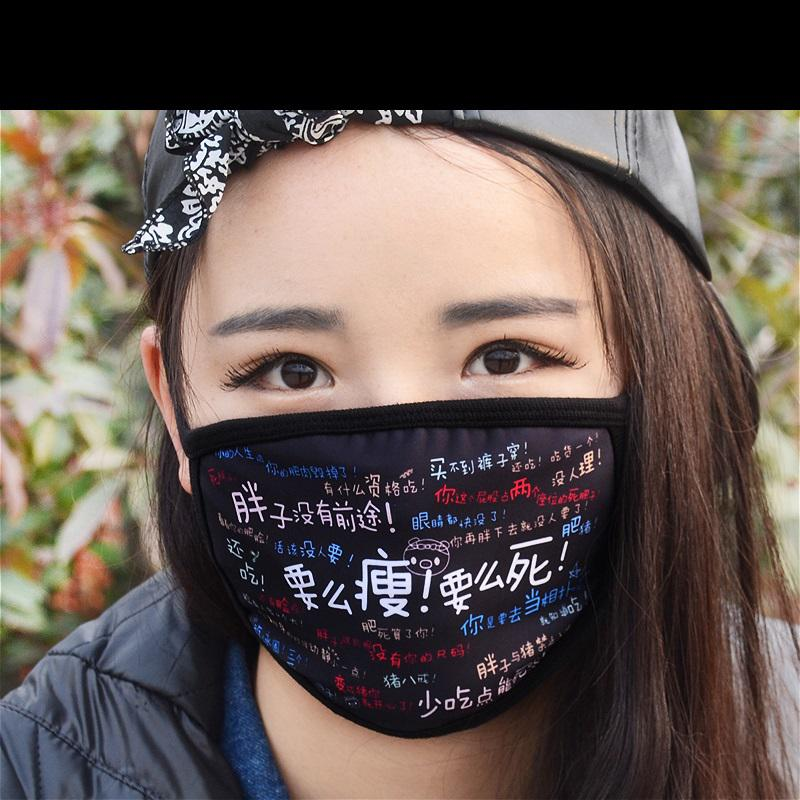OK: (179, 269, 650, 740)
